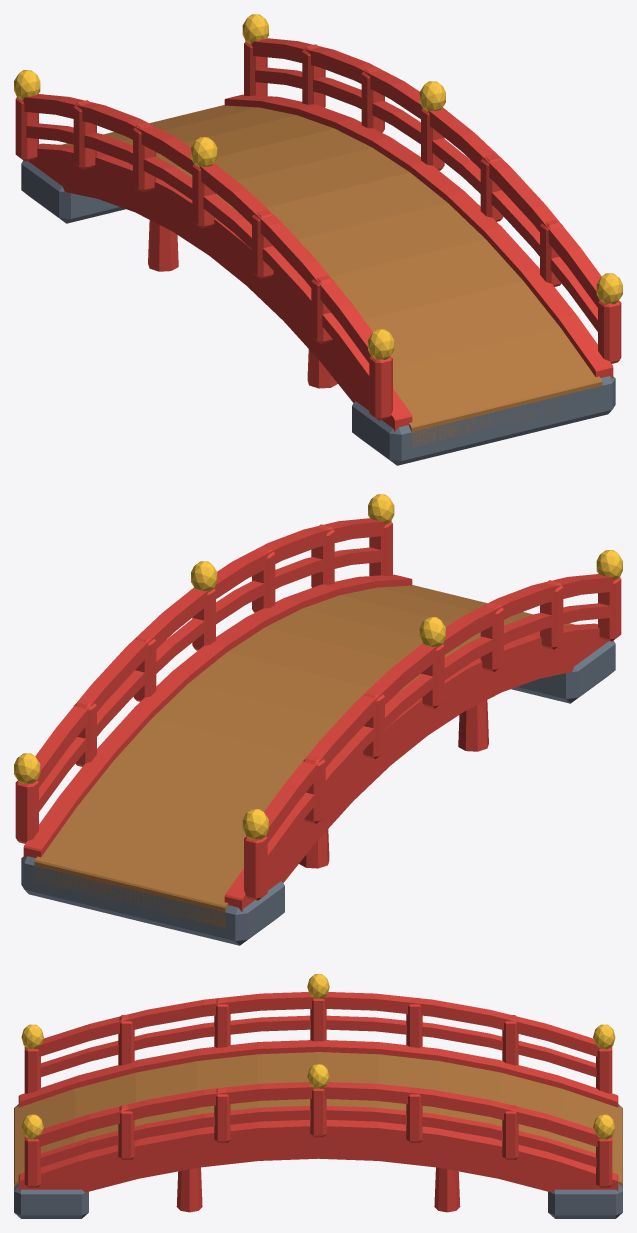
File: Prop_samurai_castle_RedBridge.glb
The picture shows the model from 3 angles, top to bottom: view 1: azimuth 30°, elevation 25°; view 2: azimuth 150°, elevation 25°; view 3: azimuth 270°, elevation 25°; orthographic projection. The views are drawn at different scales.
Visible parts, largest first — view 1: ZoneRed_E0453C, Wood_B5793F, StoneDark_6B7686, Gold_FFC83D; view 2: ZoneRed_E0453C, Wood_B5793F, StoneDark_6B7686, Gold_FFC83D; view 3: ZoneRed_E0453C, Wood_B5793F, StoneDark_6B7686, Gold_FFC83D.
Boxes of the visible parts, x1,y1,x2,y2 form: ZoneRed_E0453C: (15, 38, 621, 431); Wood_B5793F: (61, 105, 602, 447); StoneDark_6B7686: (21, 160, 615, 465); Gold_FFC83D: (14, 14, 622, 359); ZoneRed_E0453C: (15, 518, 621, 911); Wood_B5793F: (34, 585, 575, 927); StoneDark_6B7686: (21, 640, 615, 945); Gold_FFC83D: (14, 494, 622, 839); ZoneRed_E0453C: (18, 992, 618, 1212); Wood_B5793F: (14, 1052, 622, 1186); StoneDark_6B7686: (14, 1104, 622, 1218); Gold_FFC83D: (21, 974, 615, 1139).
Size of the model in its own units: 10.06 by 7.45 by 26.
